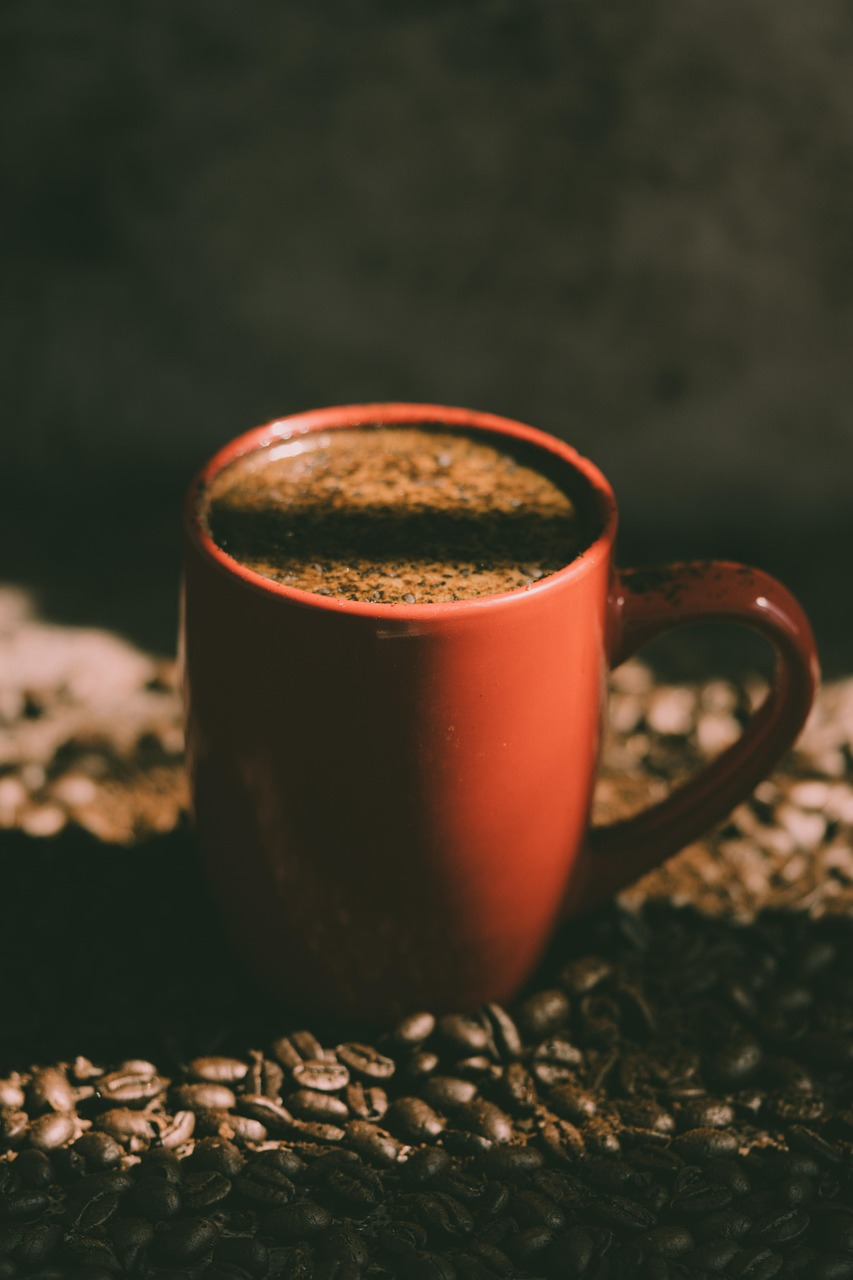mug: (121, 384, 830, 1029)
